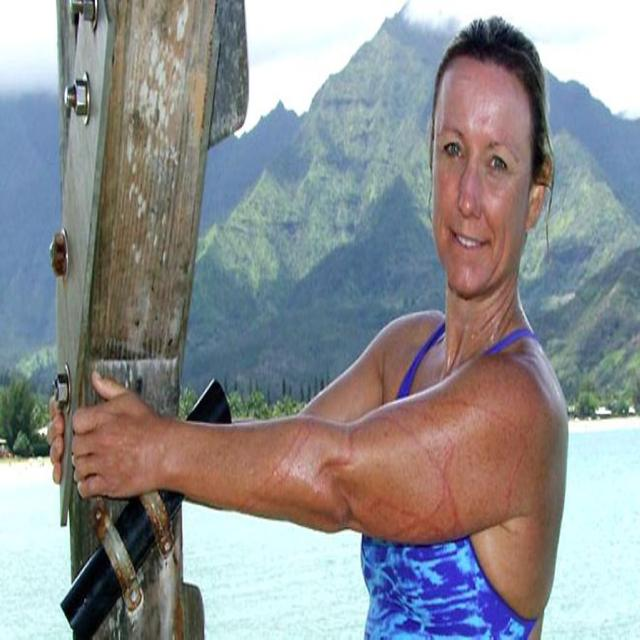Face: (423, 50, 537, 313)
